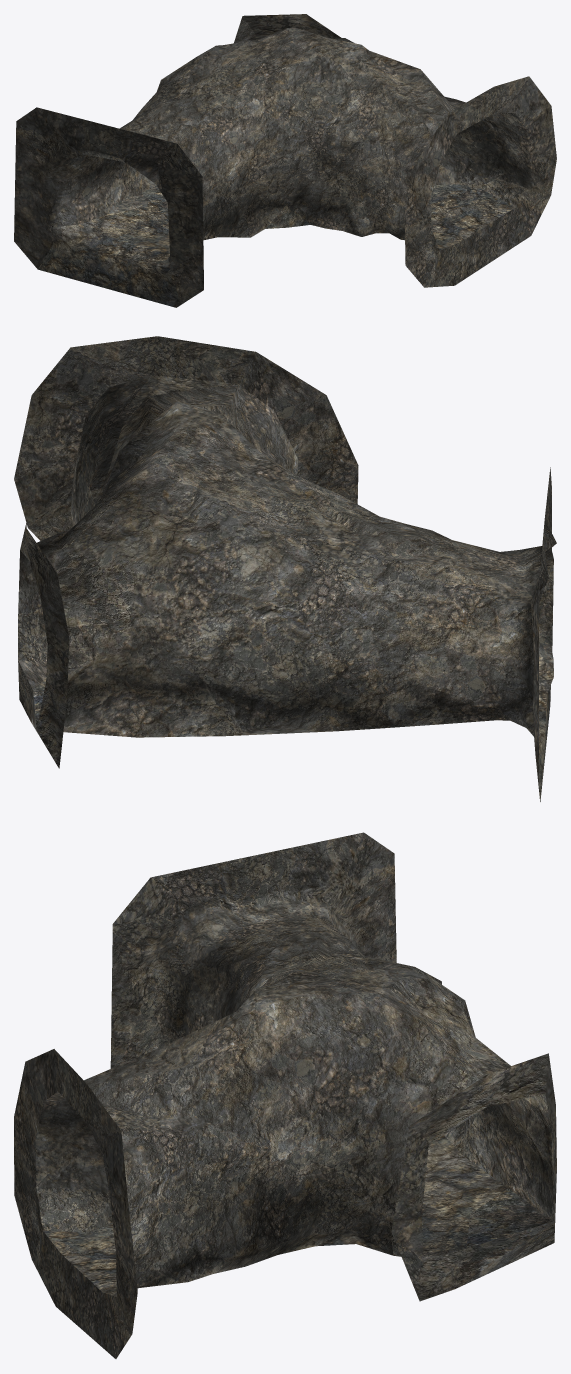
Rendered from Cave25.fbx.
3 views of the same model, one above another, from view 1: azimuth 30°, elevation 25°; view 2: azimuth 150°, elevation 25°; view 3: azimuth 270°, elevation 25° (orthographic). The views are drawn at different scales.
Visible parts, largest first — view 1: Cave25; view 2: Cave25; view 3: Cave25.
Boxes of the visible parts, left/top/right/bottom form: Cave25: left=14, top=14, right=556, bottom=307; Cave25: left=14, top=336, right=556, bottom=801; Cave25: left=14, top=832, right=556, bottom=1358.
Bounding box in the file's own units: 161 × 66.43 × 116.
